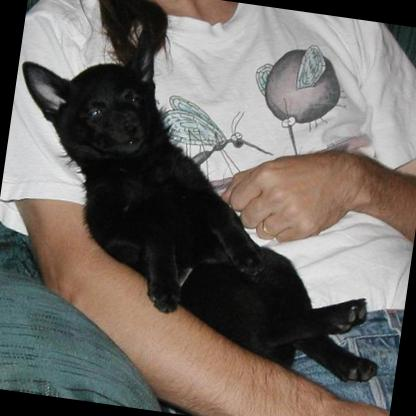schipperke: (0, 6, 416, 394)
